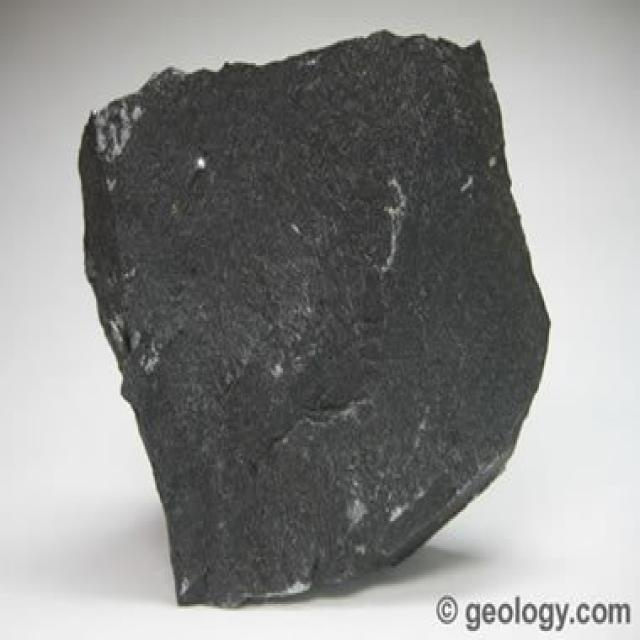Igneous: (57, 25, 571, 593)
